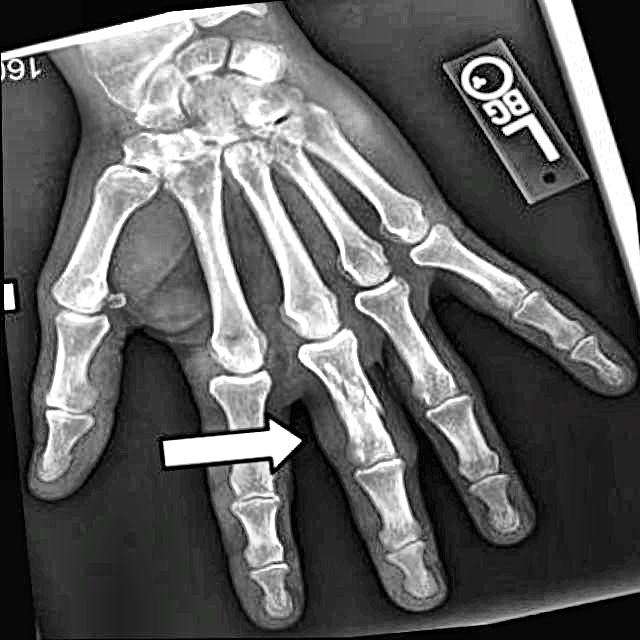Oblique Displaced: (301, 340, 391, 430)
